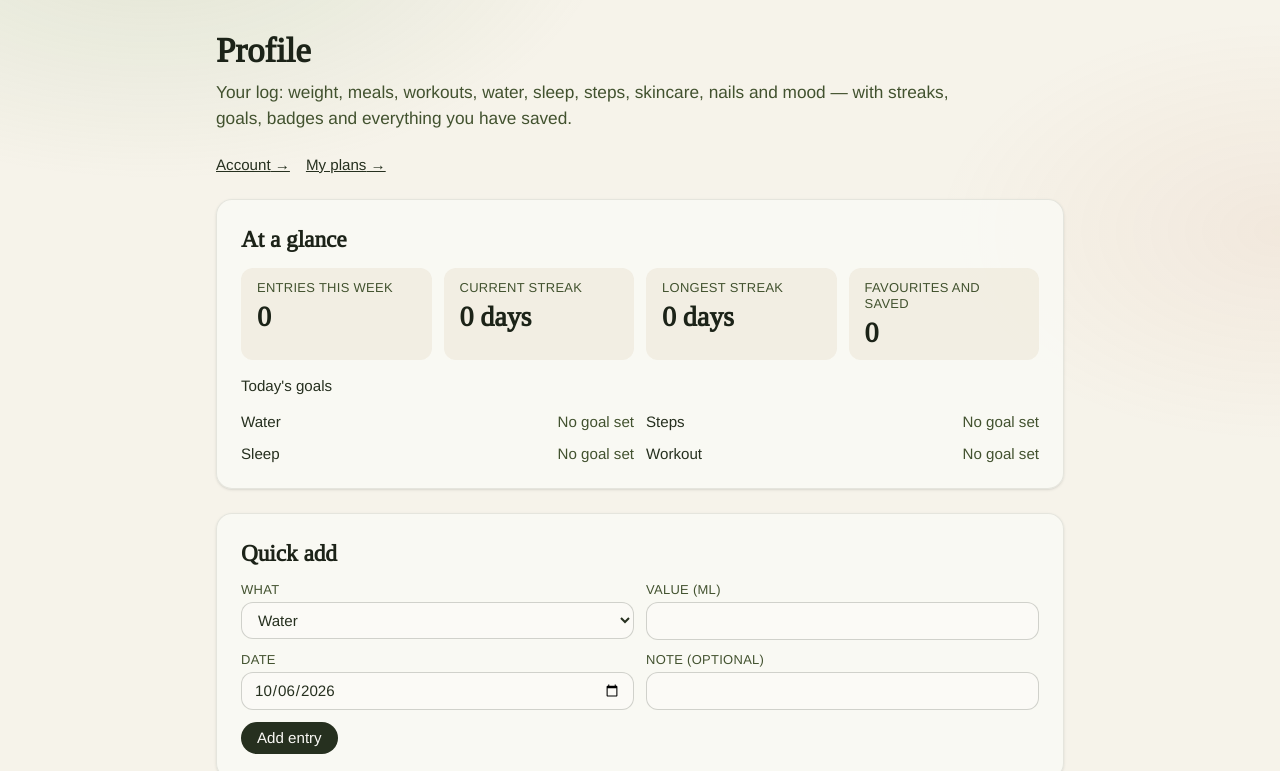
Test: <ProfilePage> — quick add › a refused write removes the optimistic row and shows the failure
The image size is (1280, 771).
Type "500" into the field labelled "Value (ml)". click: (842, 621)
box: 646,602 -> 1039,640
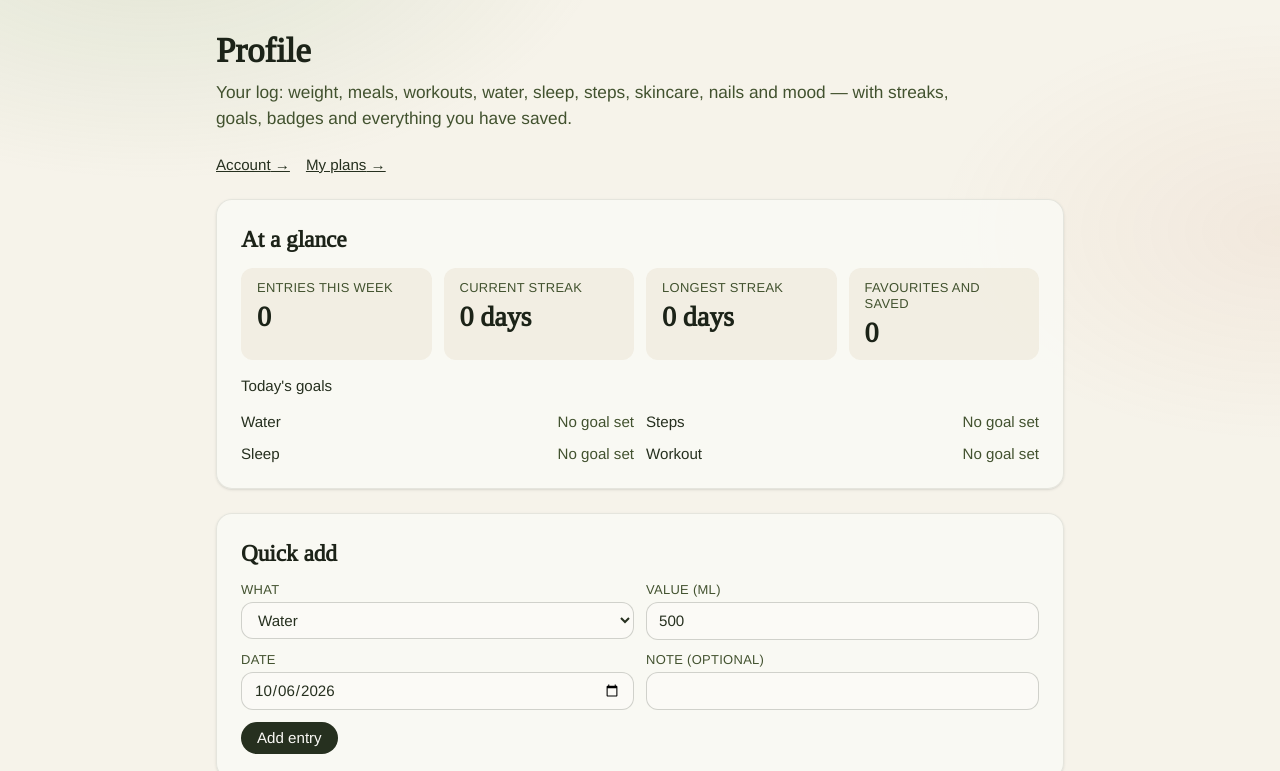
Click the button "Add entry". click: (289, 738)
box: 241,722 -> 338,754
(page scrolled)
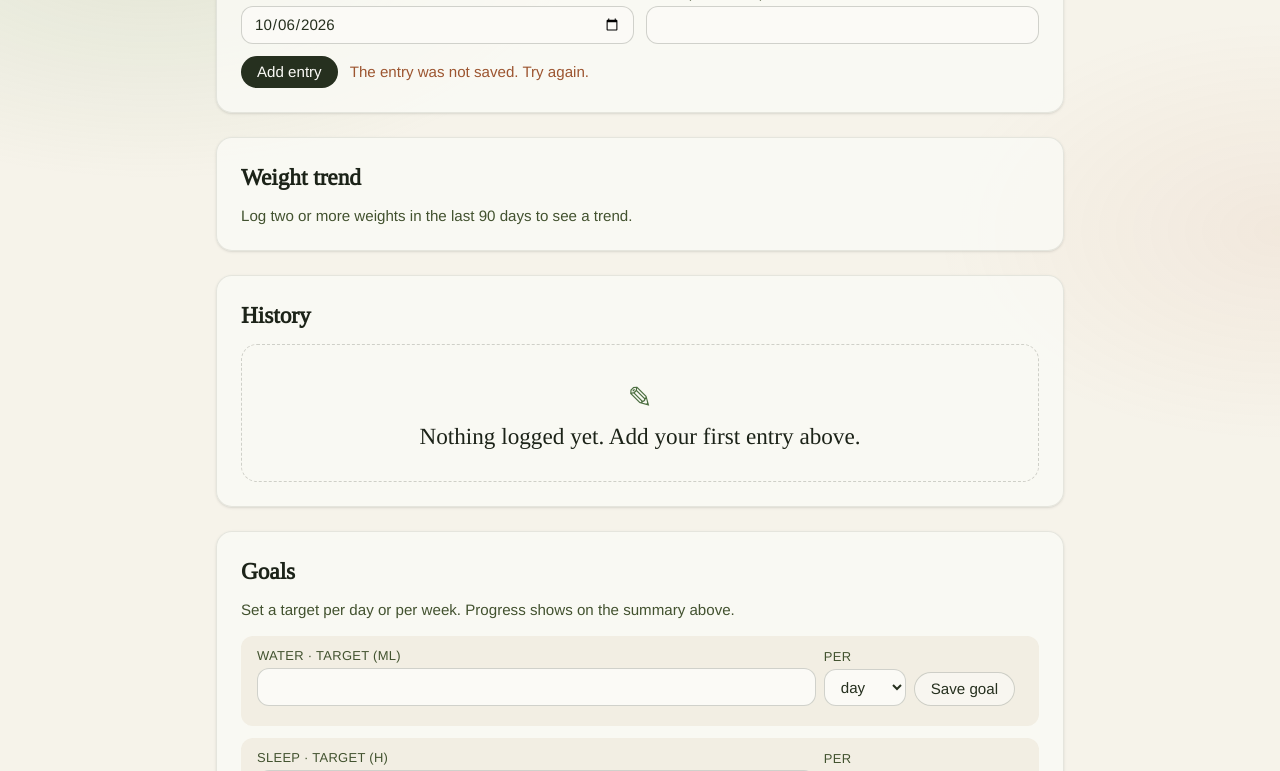
Expected: the element "History" shows "Nothing logged yet. Add your first entry above.", 419,420 -> 860,450
Now the message reads "The entry was not saved. Try again.", box 350,63 -> 589,80
